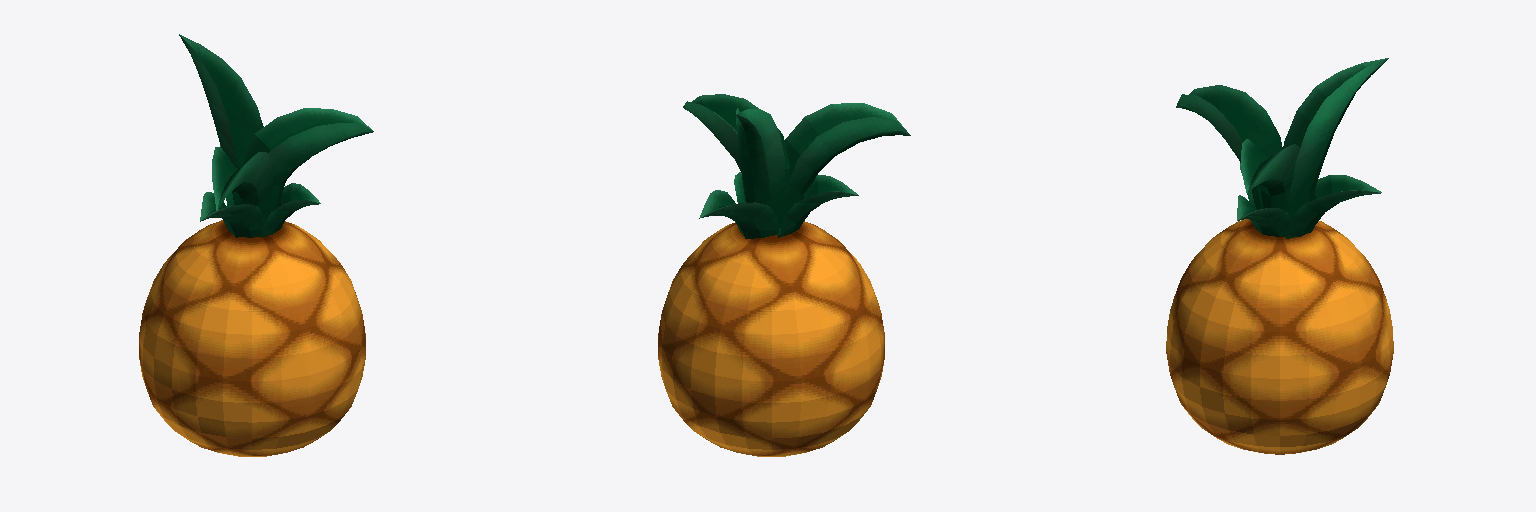
3 renders of one model, left to right at view 1: azimuth 30°, elevation 25°; view 2: azimuth 150°, elevation 25°; view 3: azimuth 270°, elevation 25°, orthographic.
Parts seen in each view (by area): view 1: pineapple_low__MI_pineapple, leaf_b_low__MI_pineapple, leaf_c_low__MI_pineapple, leaf_a_low__MI_pineapple, leaf_aa_low__MI_pineapple, leaf_ba_low__MI_pineapple; view 2: pineapple_low__MI_pineapple, leaf_a_low__MI_pineapple, leaf_c_low__MI_pineapple, leaf_b_low__MI_pineapple, leaf_ca_low__MI_pineapple, leaf_aa_low__MI_pineapple; view 3: pineapple_low__MI_pineapple, leaf_c_low__MI_pineapple, leaf_a_low__MI_pineapple, leaf_b_low__MI_pineapple, leaf_ca_low__MI_pineapple, leaf_ba_low__MI_pineapple.
Part boxes in pixels (left/top/right/bottom): pineapple_low__MI_pineapple: left=139, top=220, right=365, bottom=456; leaf_b_low__MI_pineapple: left=243, top=108, right=373, bottom=211; leaf_c_low__MI_pineapple: left=179, top=34, right=263, bottom=204; leaf_a_low__MI_pineapple: left=212, top=147, right=272, bottom=221; leaf_aa_low__MI_pineapple: left=200, top=192, right=264, bottom=237; leaf_ba_low__MI_pineapple: left=261, top=183, right=320, bottom=237; pineapple_low__MI_pineapple: left=658, top=221, right=884, bottom=456; leaf_a_low__MI_pineapple: left=778, top=103, right=910, bottom=227; leaf_c_low__MI_pineapple: left=736, top=108, right=785, bottom=221; leaf_b_low__MI_pineapple: left=683, top=94, right=789, bottom=196; leaf_ca_low__MI_pineapple: left=699, top=190, right=778, bottom=238; leaf_aa_low__MI_pineapple: left=777, top=175, right=858, bottom=237; pineapple_low__MI_pineapple: left=1166, top=219, right=1393, bottom=454; leaf_c_low__MI_pineapple: left=1283, top=58, right=1388, bottom=217; leaf_a_low__MI_pineapple: left=1176, top=85, right=1282, bottom=209; leaf_b_low__MI_pineapple: left=1241, top=139, right=1299, bottom=213; leaf_ca_low__MI_pineapple: left=1286, top=175, right=1381, bottom=238; leaf_ba_low__MI_pineapple: left=1237, top=195, right=1290, bottom=236.
Bounding box in the file's own units: 0.2186 × 0.3834 × 0.211.
1 materials, 1 textured.